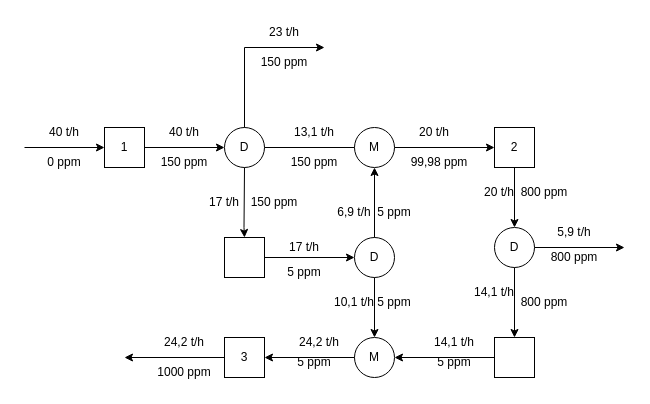
Some shapes in this 650 by 404 pixel diagram are drawn without their labels. Here are the shapes that lost their labels. From the top down, the box of each, then its label:
(224, 236, 264, 278): REGI
(494, 336, 534, 378): REGII
